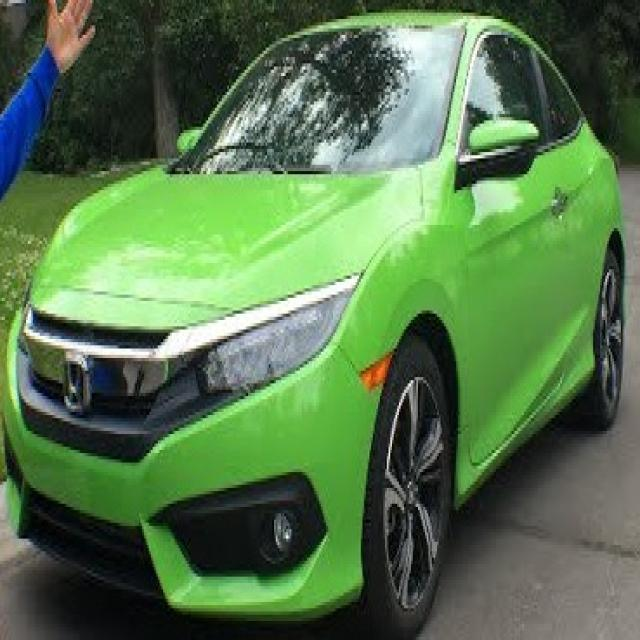green: (4, 7, 631, 640)
